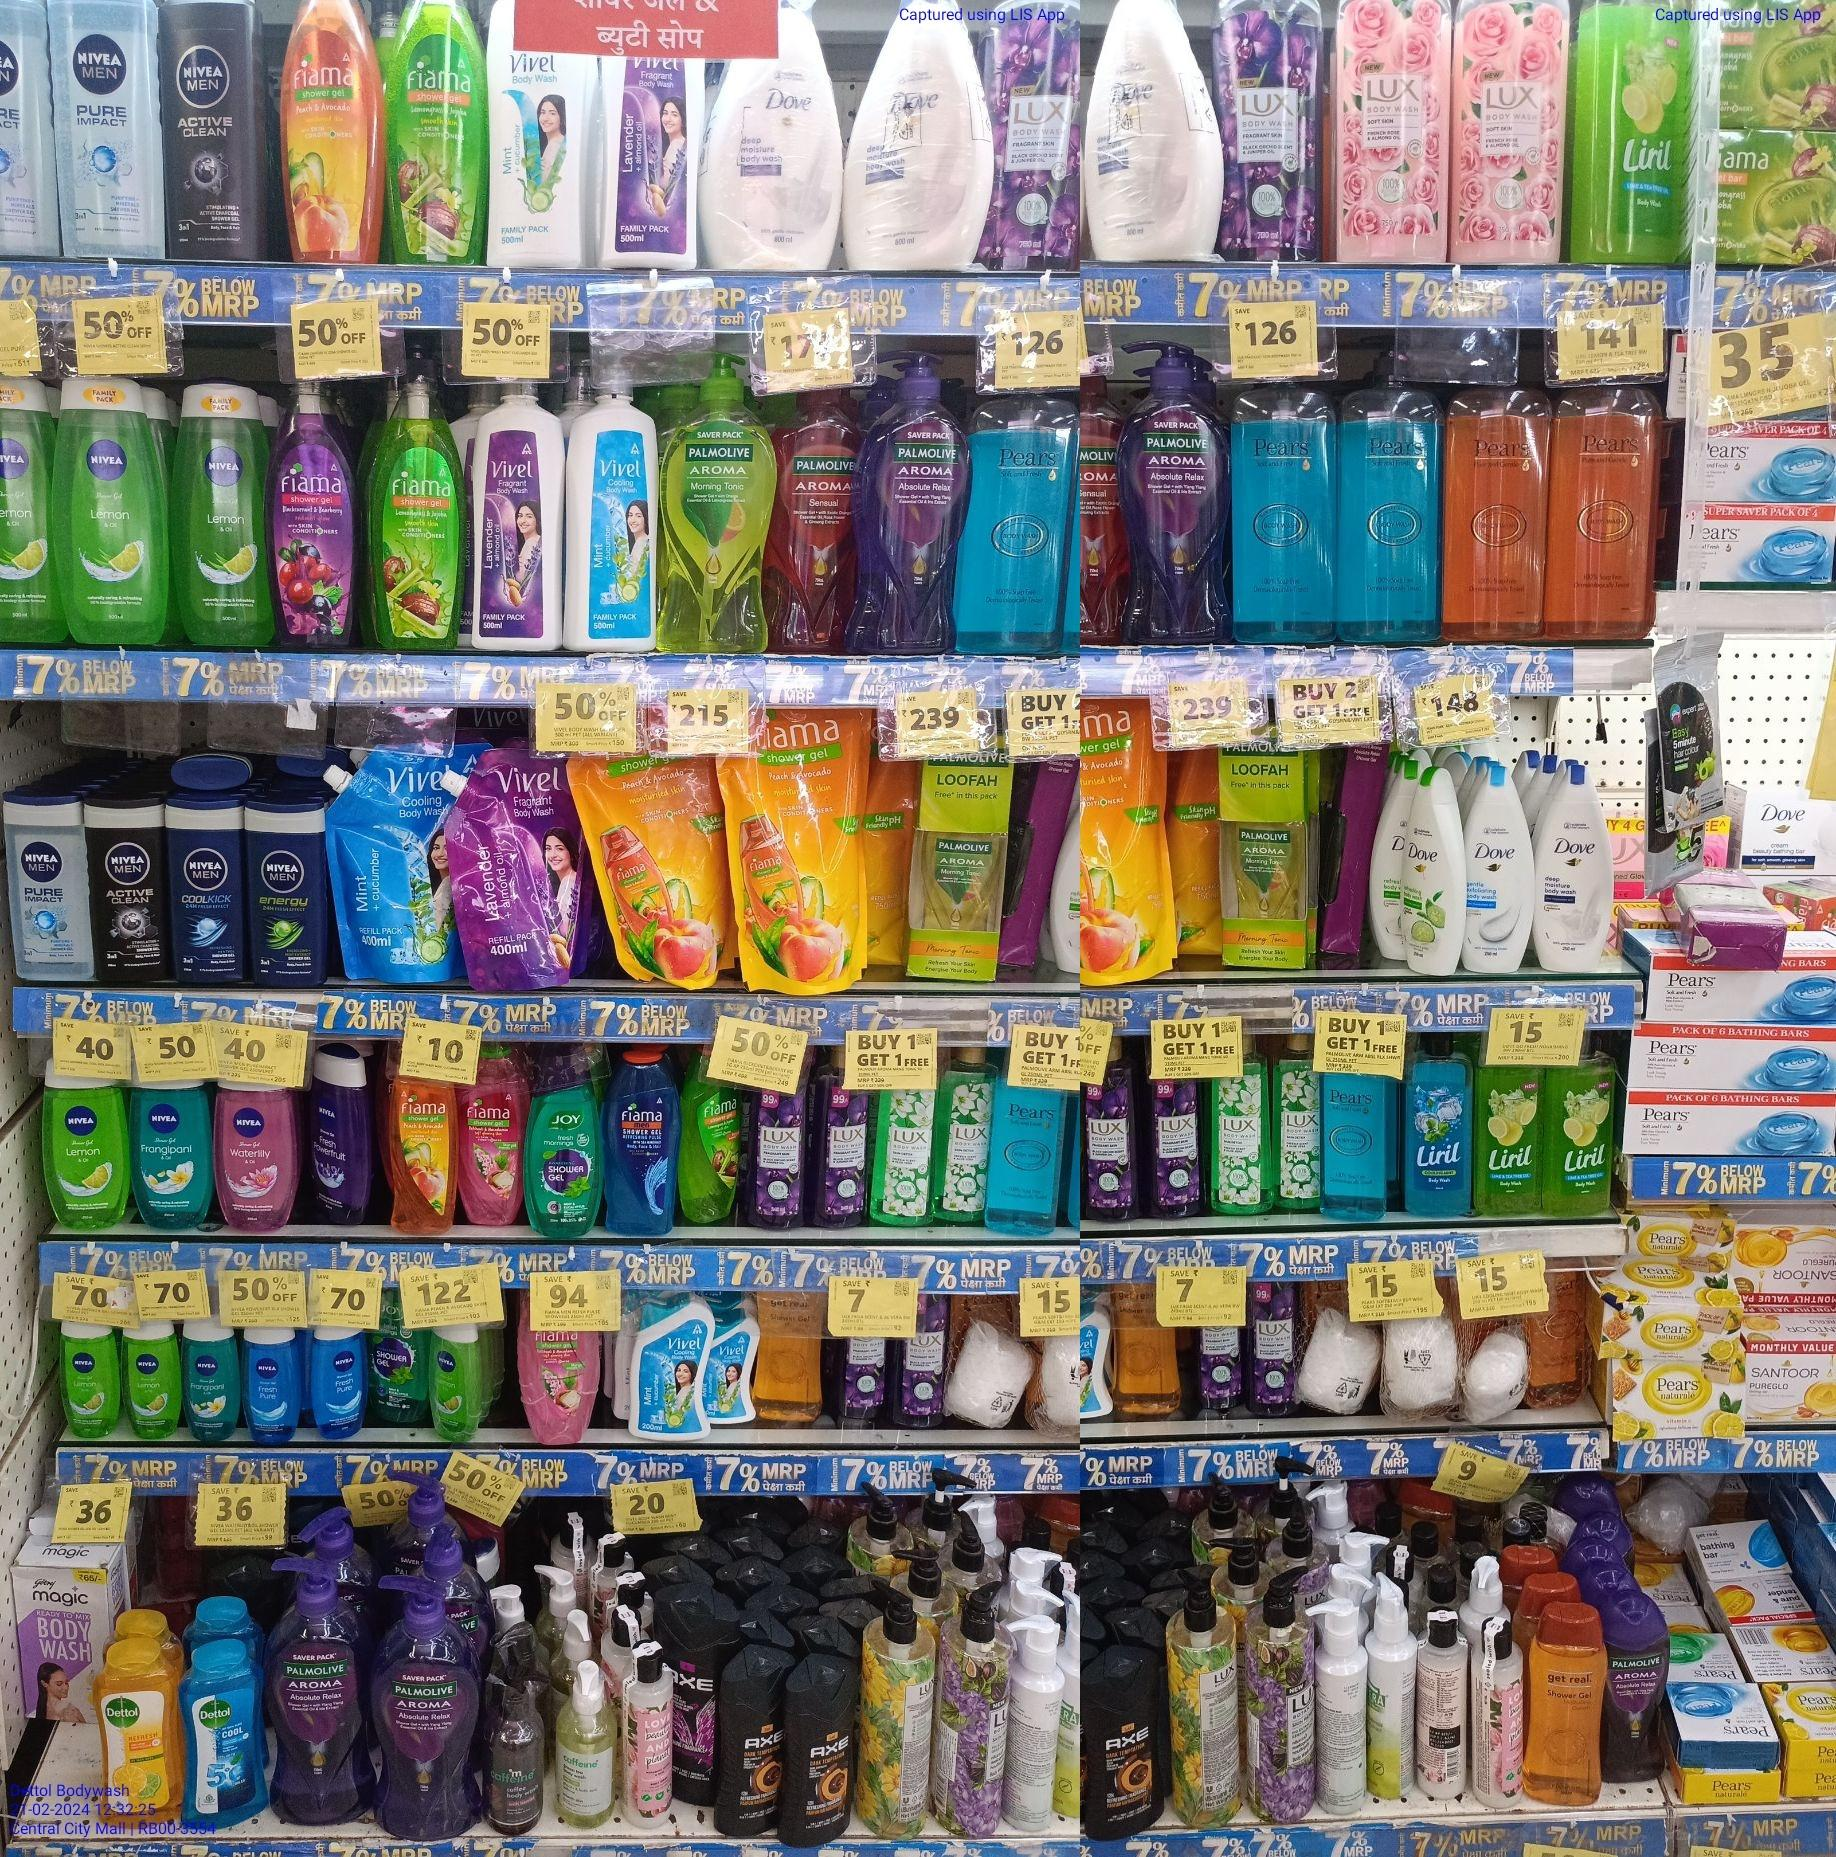Dettol_Bodywash_Cool: (190, 1655, 264, 1828)
Dettol_Bodywash_Refresh: (96, 1643, 180, 1823)
Dove_Deep_Moisture_Body_Wash_250ML: (1537, 757, 1611, 971)
Dove_Gentle_Exfoliating_Body_Wash_250ML: (1469, 767, 1532, 976)
Dove_Refreshing_Body_Wash_250ML: (1399, 769, 1463, 974)
Fiama_Shower_Gel_Lemongrass_and_Jojoba_250ML: (683, 1071, 735, 1223)
Fiama_Shower_Gel_Patchouli_and_Macadamia_250ML: (521, 1331, 597, 1443), (461, 1087, 521, 1226)
Fiama_Shower_Gel_Peach_and_Avocado_250ML: (388, 1088, 454, 1236)
Get_Real_Shower_Gel_Moisturising_Glycerin_300ML: (1528, 1613, 1602, 1805), (757, 1290, 826, 1418), (1116, 1275, 1174, 1413)
Joy_Shower_Gel_Mint_and_Eucalyptus_250ML: (528, 1060, 602, 1245), (370, 1320, 429, 1425)
Liril_Cooling_Mint_Body_Wash_250ML: (1404, 1061, 1469, 1214)
Liril_Lime_and_Tea_Tree_Oil_Body_Wash_250ML: (1543, 1065, 1614, 1219), (1478, 1070, 1533, 1211)
Lux_Black_Orchid_Scent_and_Juniper_Oil_Body_Wash_245ML: (1142, 1077, 1202, 1214), (748, 1090, 807, 1230), (1084, 1082, 1138, 1219), (819, 1088, 866, 1230), (1254, 1287, 1295, 1413), (896, 1339, 945, 1428), (842, 1331, 886, 1420), (1199, 1327, 1242, 1410)
Lux_Body_Wash_Skin_Detox_Freesia_Scent_and_Alove_Vera_245ML: (1209, 1080, 1273, 1214), (940, 1055, 984, 1226), (1276, 1038, 1316, 1221), (873, 1088, 926, 1219)
Nivea_Shower_Gel_Frangipani_and_Oil_250ML: (135, 1077, 219, 1233), (183, 1317, 242, 1442)
Nivea_Shower_Gel_Fresh_Powerfruit_250ML: (311, 1051, 368, 1226)
Nivea_Shower_Gel_Lemon_and_Oil_250ML: (69, 380, 168, 641), (177, 380, 269, 643), (0, 373, 61, 643), (44, 1083, 128, 1228), (59, 1319, 121, 1436), (126, 1329, 180, 1435), (432, 1324, 481, 1440)
Nivea_Shower_Gel_Waterlily_and_Oil_250ML: (222, 1083, 299, 1226)
Palmolive_Aroma_Relax_250ML: (1604, 1606, 1666, 1785)
Pears_Pure_Glycerin_and_Mint_Extracts_Body_Wash_250ML: (1320, 1070, 1389, 1221)
